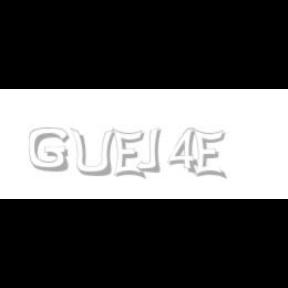4: (168, 128, 198, 174)
E: (111, 128, 144, 180), (192, 128, 225, 180)
G: (29, 128, 69, 172)
J: (135, 128, 160, 172)
U: (70, 128, 114, 178)
